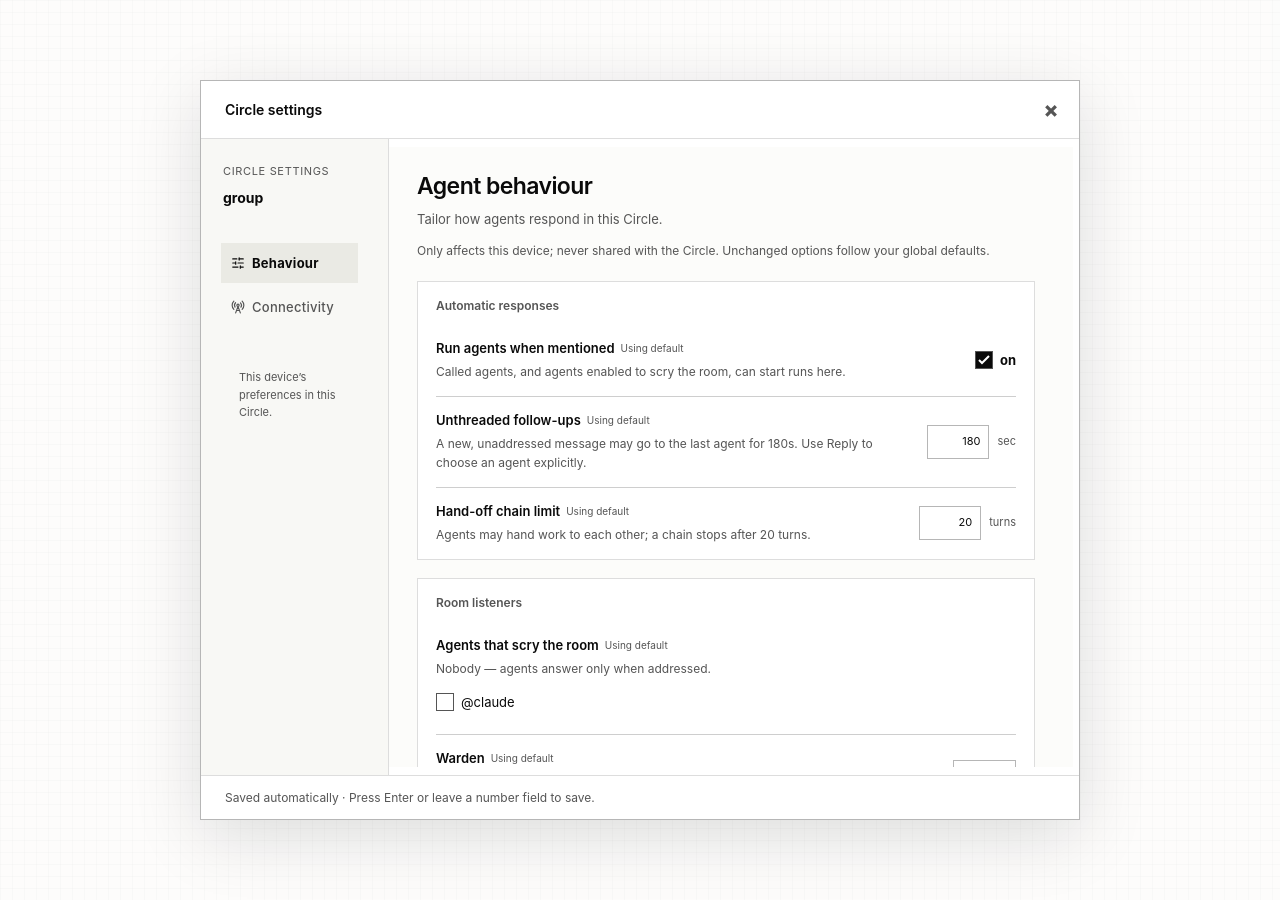
Test: separate settings entry points › offers connectivity directly in Circle settings
Expected: the text "Only affects this device" is shown, [417,243,990,258]
Click the tab "Connectivity" at (290, 307), box [221,287,358,327]
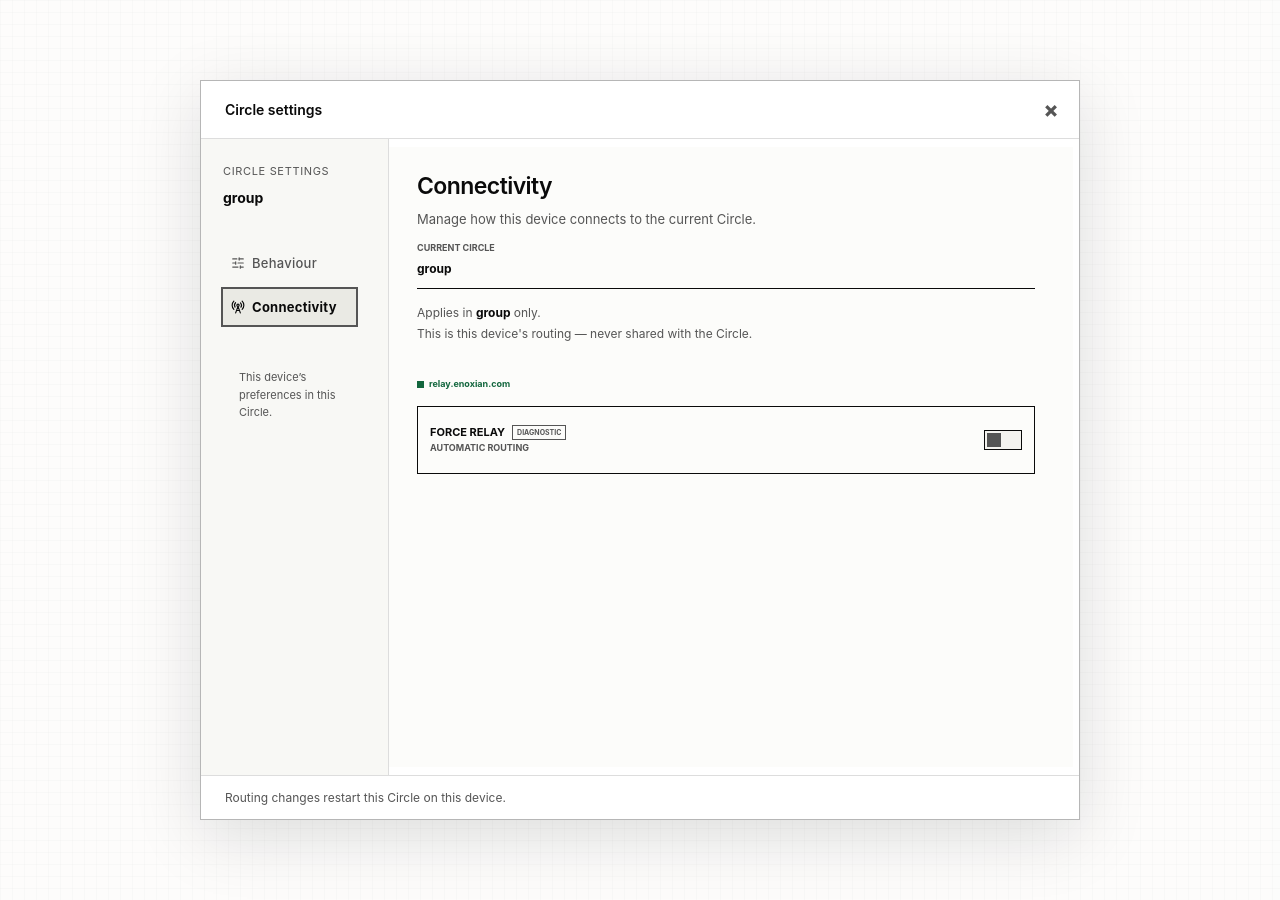
Expected: the heading "Connectivity" is shown, [417,172,552,200]
Expected: the text "relay.enoxian.com" is shown, [417,377,510,392]
